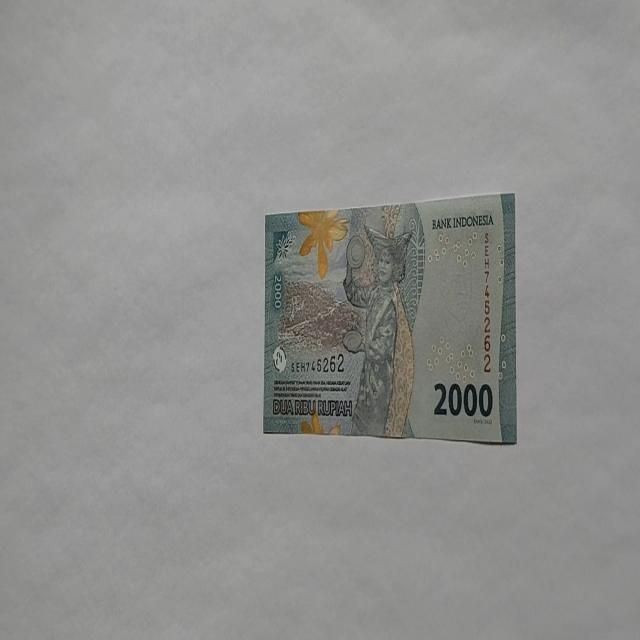dua ribu rupiah: (263, 191, 516, 445), (342, 222, 416, 438)
